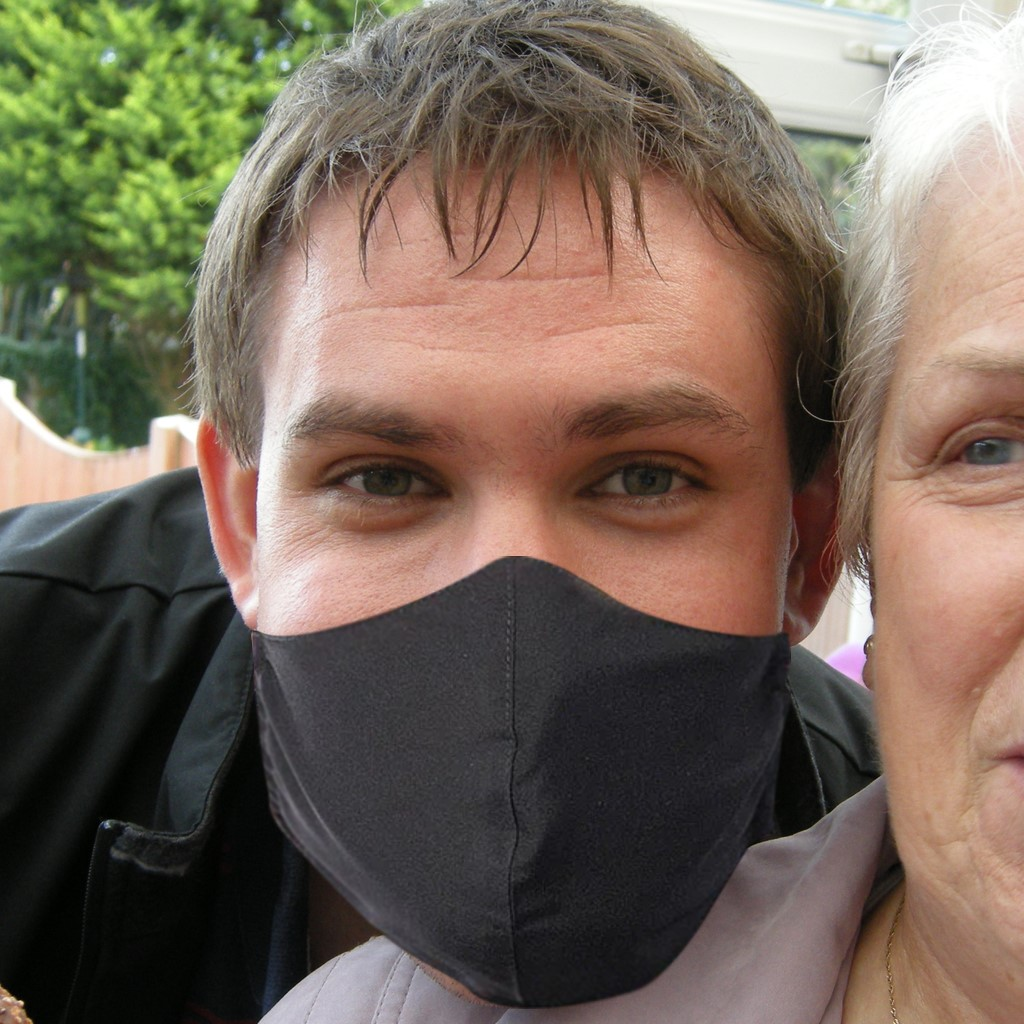con_mascara: (244, 153, 784, 965)
